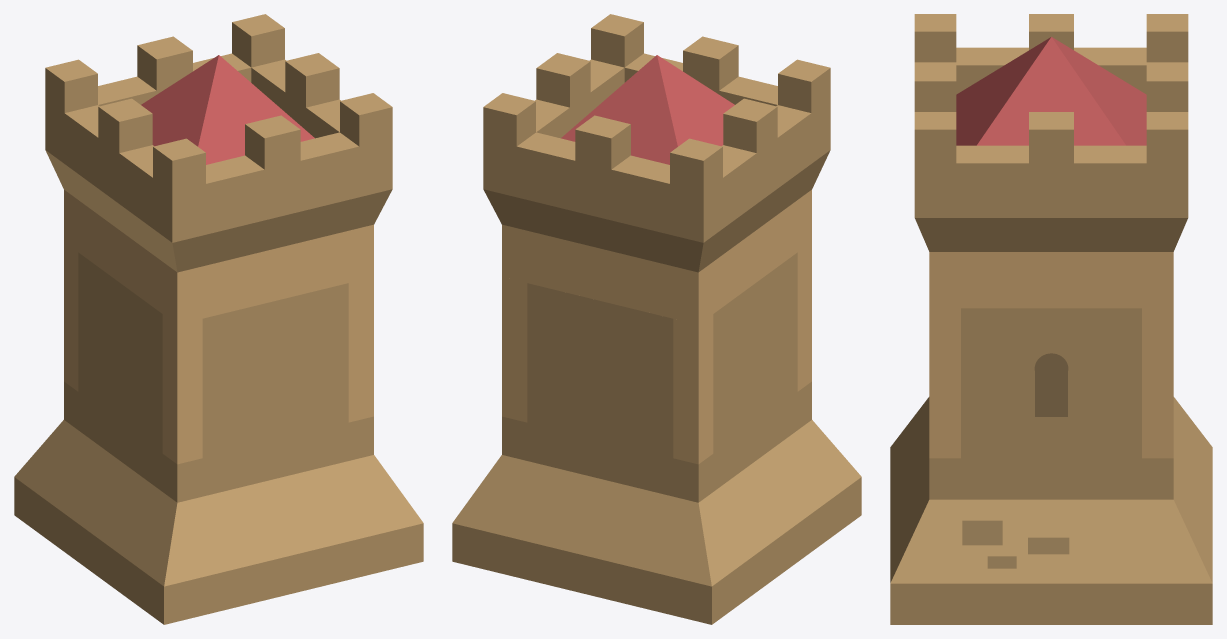
The model's file is StunningTower.dae.
The picture shows the model from 3 angles, left to right: view 1: azimuth 30°, elevation 25°; view 2: azimuth 150°, elevation 25°; view 3: azimuth 270°, elevation 25°; orthographic projection. The views are drawn at different scales.
Visible parts, largest first — view 1: Group88 (×2), Group18, Group80 (×4), Group90; view 2: Group88 (×2), Group18, Group80 (×4), Group90; view 3: Group88 (×2), Group18 (×3), Group80 (×4), Group90.
Boxes of the visible parts, bbox=[...] form: Group88 (×2): bbox=[45, 14, 392, 324]; Group18: bbox=[14, 381, 423, 624]; Group80 (×4): bbox=[64, 242, 373, 464]; Group90: bbox=[141, 55, 314, 164]; Group88 (×2): bbox=[483, 14, 830, 324]; Group18: bbox=[452, 381, 861, 624]; Group80 (×4): bbox=[502, 242, 811, 464]; Group90: bbox=[561, 55, 734, 164]; Group88 (×2): bbox=[914, 14, 1188, 308]; Group18 (×3): bbox=[890, 397, 1212, 624]; Group80 (×4): bbox=[929, 308, 1173, 458]; Group90: bbox=[956, 37, 1146, 145].
Bounding box in the file's own units: 30.66 × 30.66 × 54.57.
